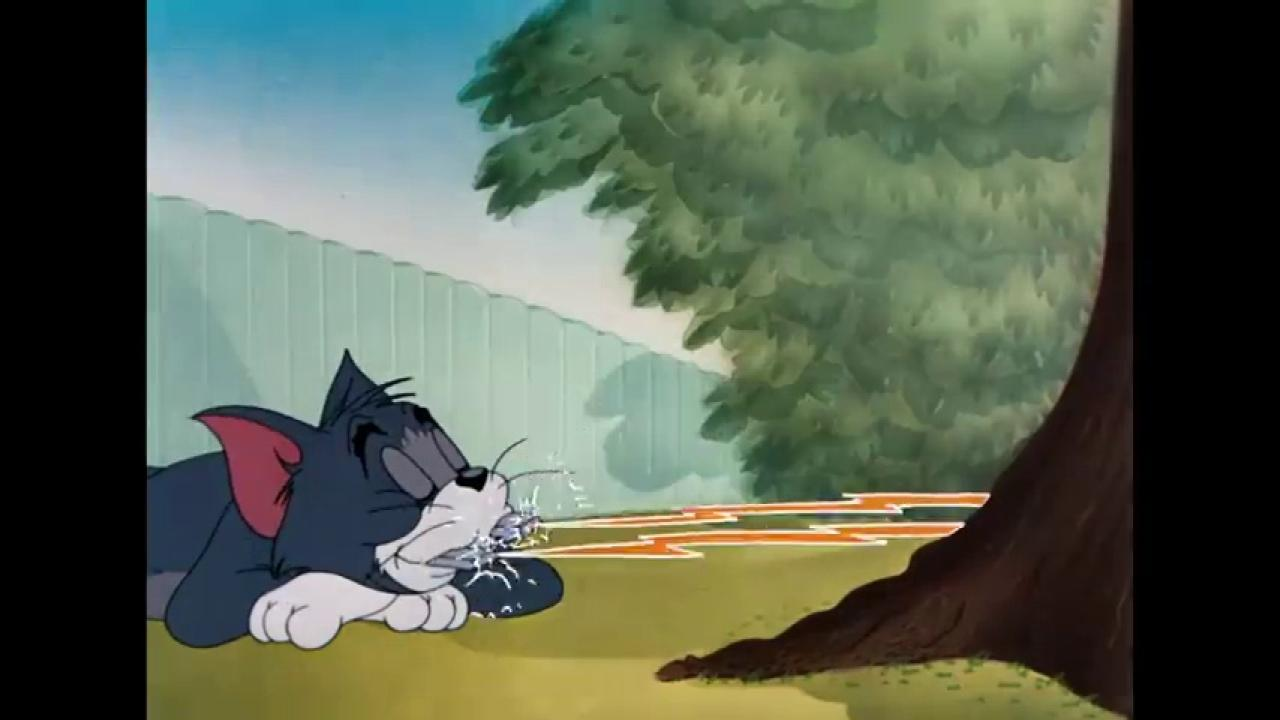Tom: (147, 345, 566, 651)
